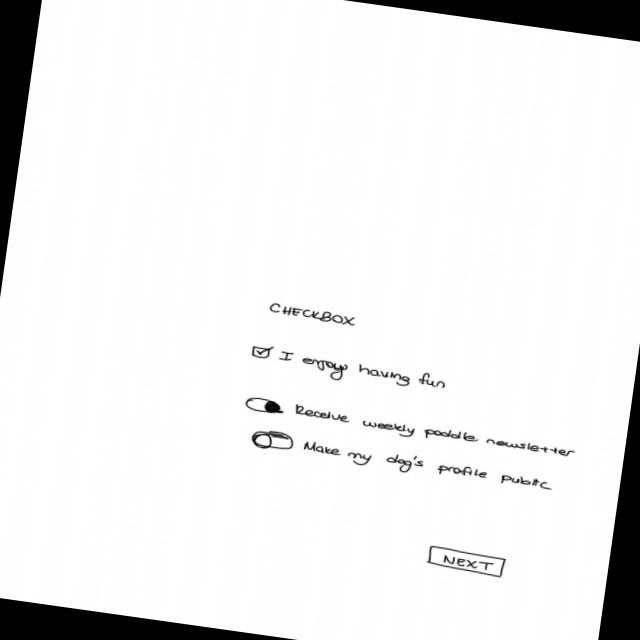button: (427, 546, 509, 582)
checkbox: (249, 344, 450, 399)
label: (292, 403, 581, 462), (301, 439, 557, 496), (268, 302, 363, 330)
toggle: (250, 428, 296, 454), (244, 396, 287, 418)
